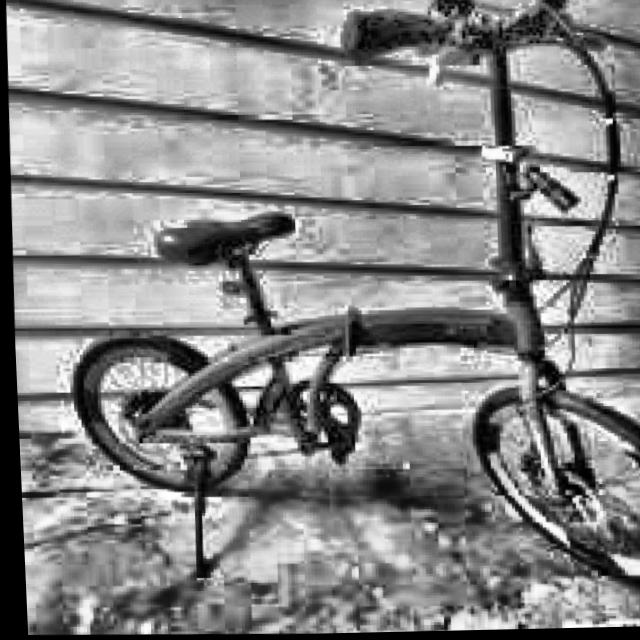motorcycle: (62, 0, 640, 631)
